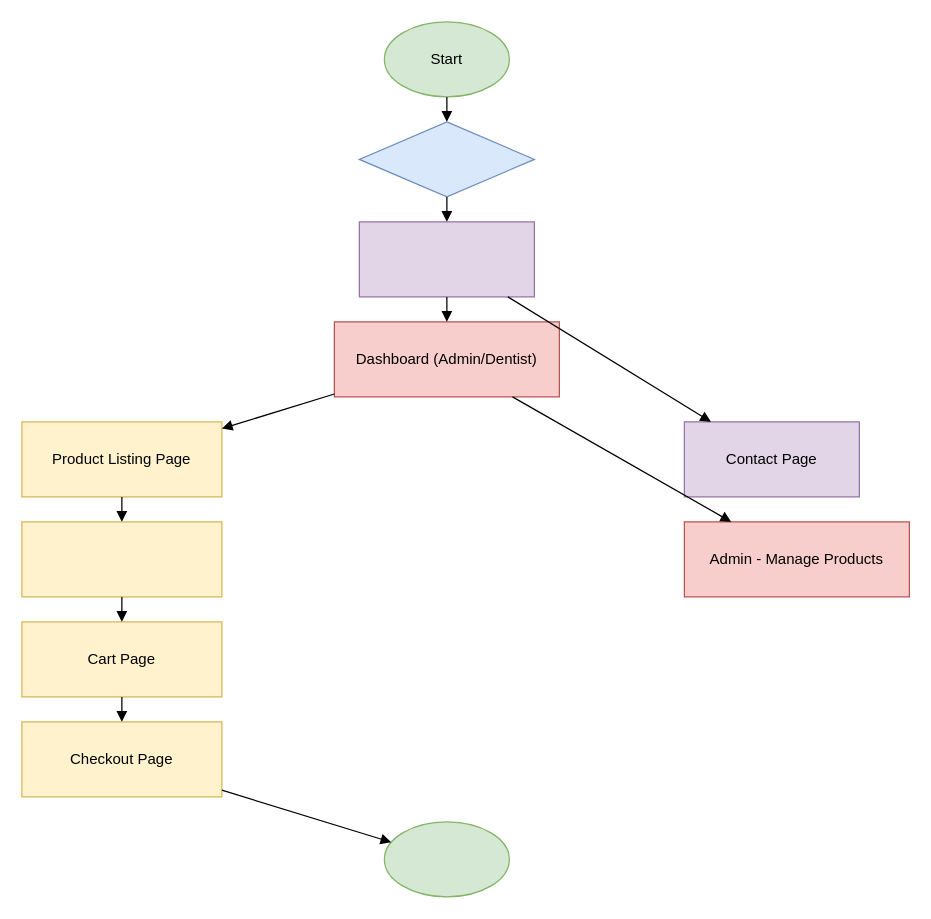
Image size: 931x919. Some labels were removed from this diagram. Each missing label, with the centre of its shape:
"End" goes at point (446, 859).
"Home Page" goes at point (446, 259).
"Login Page" goes at point (446, 159).
"Product Details Page" goes at point (121, 559).
